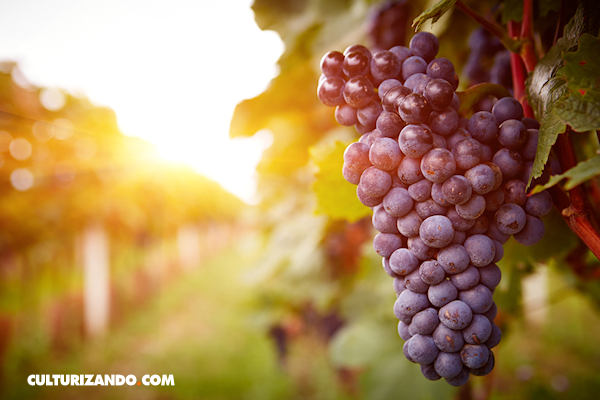Black grapes: (339, 38, 498, 378)
